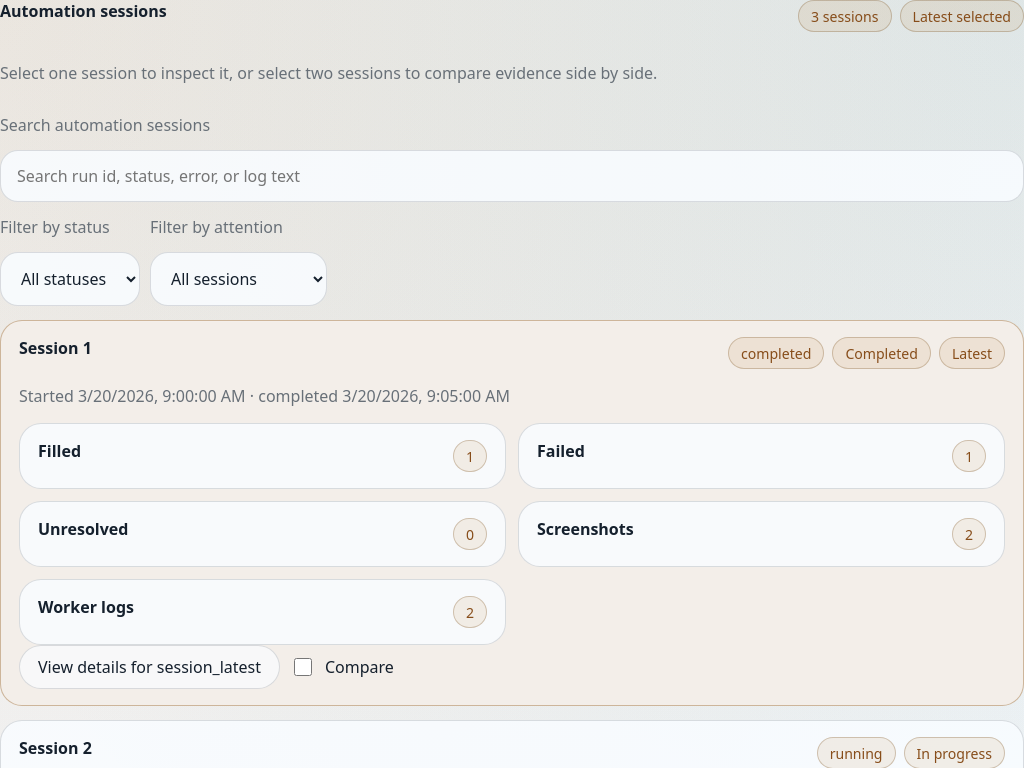
Test case: AutomationSessionHistory › filters sessions by search and auto-switches selected detail
Type "detached" into the search field labelled "Search automation sessions" at (512,176), box [0,150,1023,202]
(page scrolled)
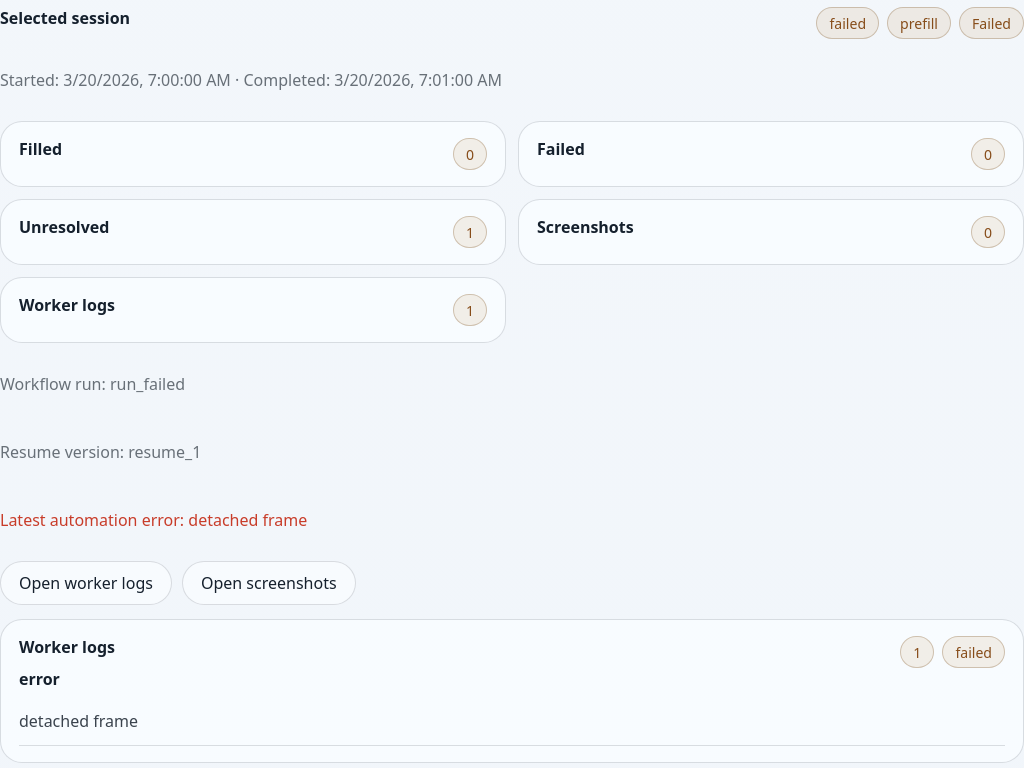
Result: the button "View details for session_latest" is gone
Result: the text "Workflow run: run_failed" is shown at [0,373,185,395]
